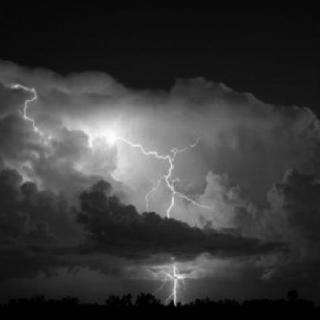Cumulonimbus: (0, 41, 320, 296)
